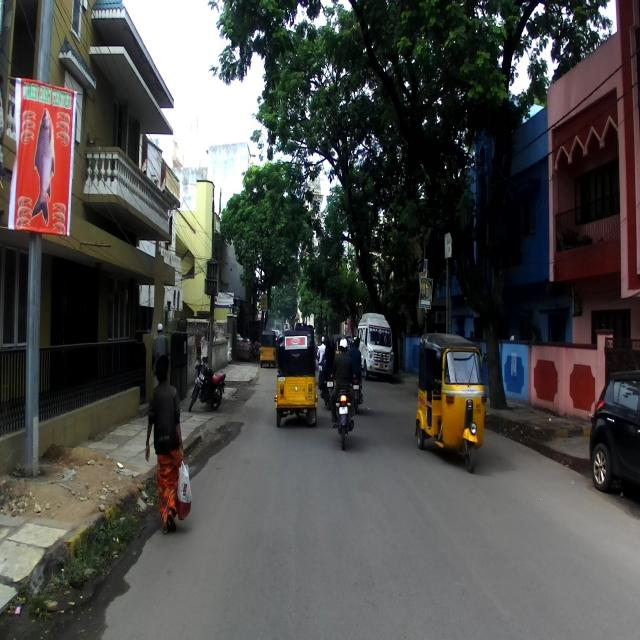autorickshaw: (415, 330, 487, 471)
mini-bus: (358, 312, 393, 380)
motorcycle: (330, 372, 356, 452)
motorcycle_Honda: (188, 354, 225, 412)
